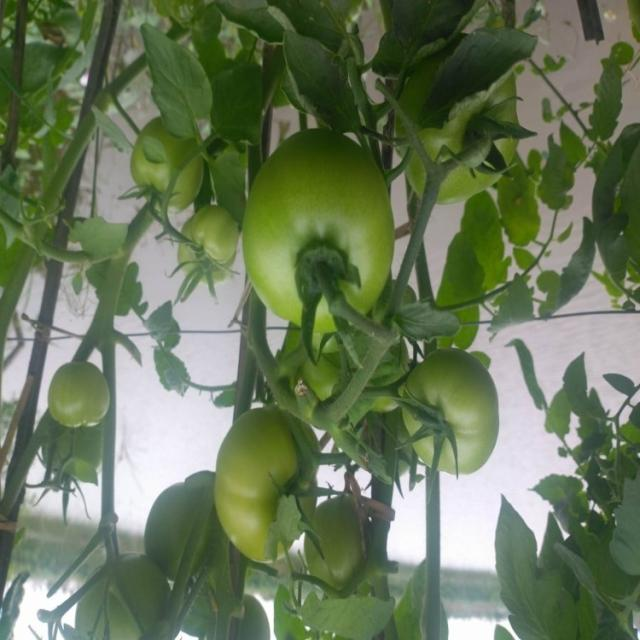tomato: (243, 125, 422, 365), (402, 343, 505, 494), (219, 408, 315, 557), (115, 101, 208, 211), (306, 487, 374, 581), (168, 210, 231, 308), (53, 362, 120, 449)
